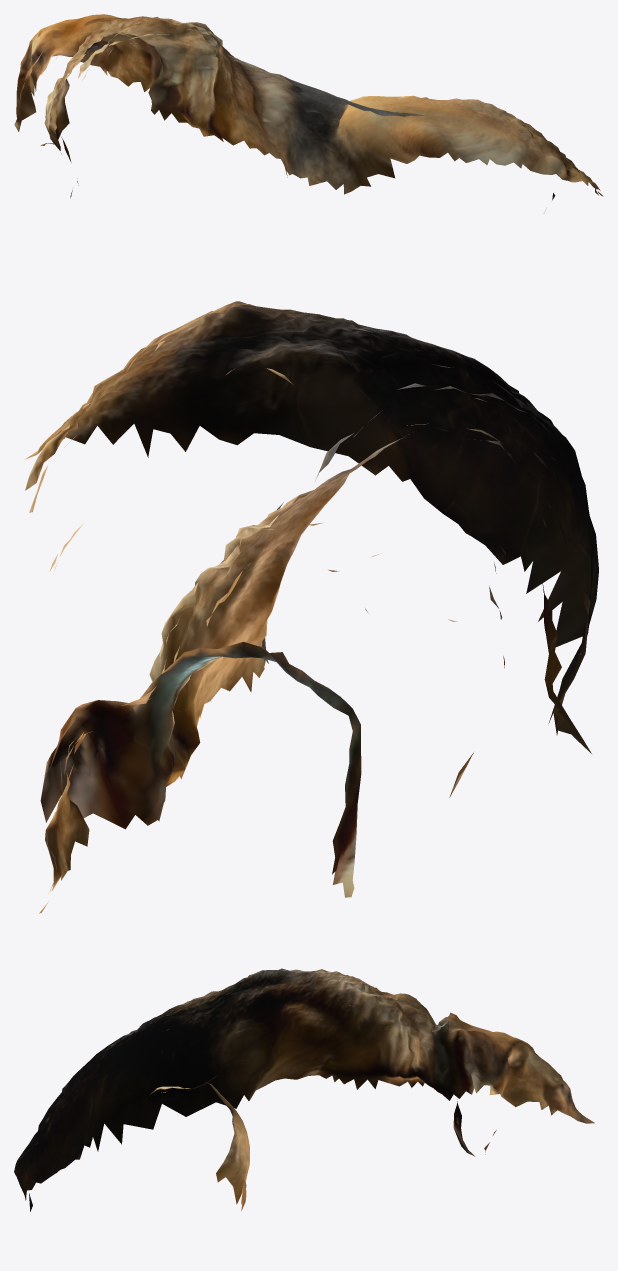
File: sleeping_dog.glb
The picture shows the model from 3 angles, top to bottom: view 1: azimuth 30°, elevation 25°; view 2: azimuth 150°, elevation 25°; view 3: azimuth 270°, elevation 25°; orthographic projection. The views are drawn at different scales.
Parts seen in each view (by area): view 1: Object_4; view 2: Object_4; view 3: Object_4.
Part boxes in pixels (box(x1,y1,x2,y2)): Object_4: box(14, 14, 603, 200); Object_4: box(25, 301, 598, 913); Object_4: box(14, 968, 594, 1211).
Bounding box in the file's own units: 0.6686 × 0.2598 × 0.914.
Materials: 1 (1 with a texture image).
